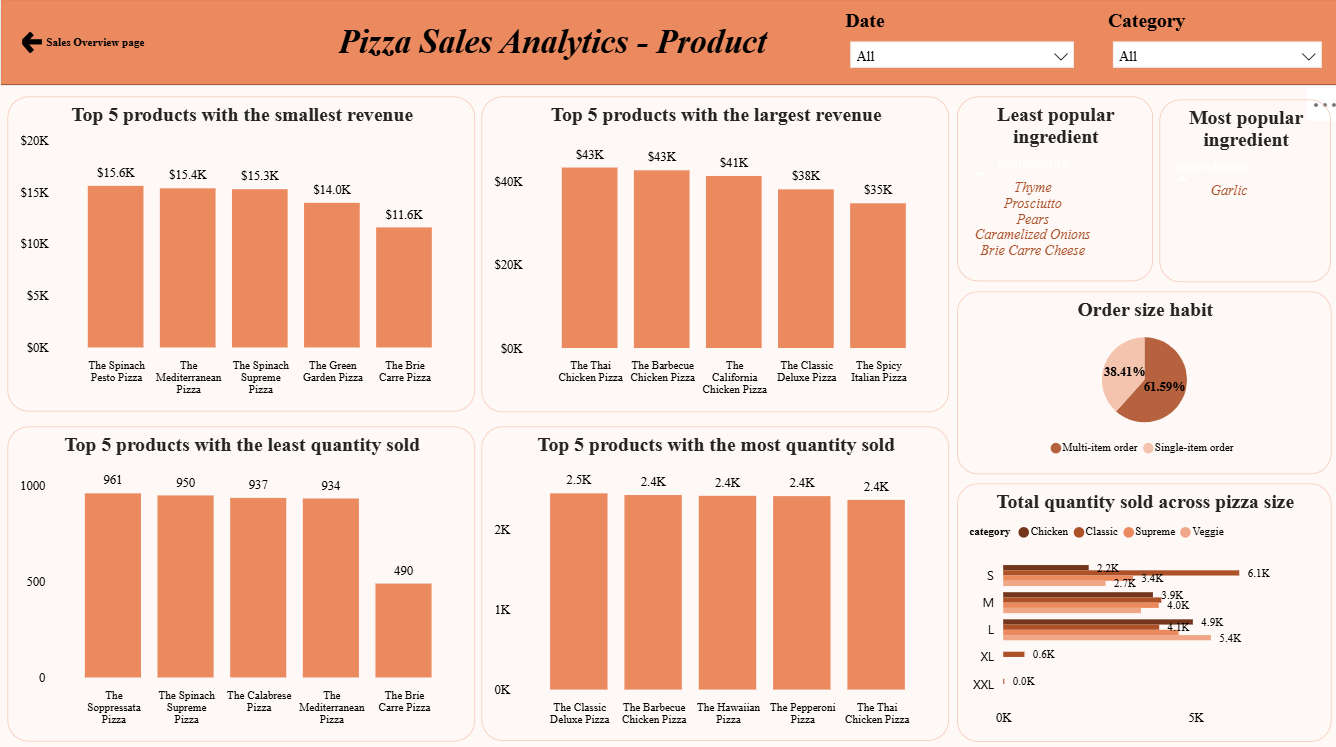

This screenshot's page, from the dashboard's own definition file:
{"tool":"powerbi","page":{"name":"Product","canvas":[1280,720],"ordinal":1},"visuals":[{"type":"shape","box":[0,0,1279.5,82.4],"z":0},{"type":"textbox","box":[316.7,17,433.1,65.3],"z":1000},{"type":"columnChart","title":"Top 5 products with the most quantity sold","fields":{"Category":["Dim_Pizza.name"],"Y":["Fact_Pizza_Table.total quantity sold"]},"box":[459.1,407.5,445.5,299.6],"z":2000},{"type":"pieChart","title":"Order size habit","fields":{"Category":["Fact_Pizza_Table.order type"],"Y":["Count(Fact_Pizza_Table.order_id)"]},"box":[911.4,279.1,357,174.1],"z":3000},{"type":"columnChart","title":"Top 5 products with the least quantity sold","fields":{"Category":["Dim_Pizza.name"],"Y":["Fact_Pizza_Table.total quantity sold"]},"box":[6.8,407.5,445.5,300],"z":4000},{"type":"columnChart","title":"Top 5 products with the largest revenue","fields":{"Category":["Dim_Pizza.name"],"Y":["Fact_Pizza_Table.total revenue"]},"box":[459.1,93.4,445.5,300.5],"z":5000},{"type":"columnChart","title":"Top 5 products with the smallest revenue","fields":{"Category":["Dim_Pizza.name"],"Y":["Fact_Pizza_Table.total revenue"]},"box":[6.8,93.4,445.5,300],"z":6000},{"type":"clusteredBarChart","title":"Total quantity sold across pizza size","fields":{"Category":["Dim_Pizza.size"],"Y":["Fact_Pizza_Table.total quantity sold"],"Series":["Dim_Category.category"]},"box":[911.4,461,357,246.1],"z":7000},{"type":"slicer","title":"Category","fields":{"Values":["Dim_Category.category"]},"box":[1049.5,9.9,218.7,61.1],"z":8000},{"type":"slicer","title":"Date","fields":{"Values":["Dim_Date.Month","Dim_Date.Date"]},"box":[799.5,9.9,232.9,61.1],"z":9000},{"type":"pivotTable","title":"Least popular ingredient","fields":{"Rows":["Ingredient_Sales.ingredients"]},"box":[911.4,93.4,186.7,176],"z":10000},{"type":"pivotTable","title":"Most popular ingredient","fields":{"Rows":["Ingredient_Sales.ingredients"]},"box":[1104.9,95.3,163.4,174.1],"z":11000},{"type":"actionButton","box":[17.5,21.4,124.5,39.9],"z":12000}]}

Visuals, with their boxes in screenshot pixels (x1, y1, x2, y2), scaled from the page's 1280x720 canvas onto the 1336x747 screenshot:
shape: (0,0,1335,85)
textbox: (331,18,783,85)
"Top 5 products with the most quantity sold" columnChart: (479,423,944,734)
"Order size habit" pieChart: (951,290,1324,470)
"Top 5 products with the least quantity sold" columnChart: (7,423,472,734)
"Top 5 products with the largest revenue" columnChart: (479,97,944,409)
"Top 5 products with the smallest revenue" columnChart: (7,97,472,408)
"Total quantity sold across pizza size" clusteredBarChart: (951,478,1324,734)
"Category" slicer: (1095,10,1324,74)
"Date" slicer: (834,10,1078,74)
"Least popular ingredient" pivotTable: (951,97,1146,280)
"Most popular ingredient" pivotTable: (1153,99,1324,280)
actionButton: (18,22,148,64)
